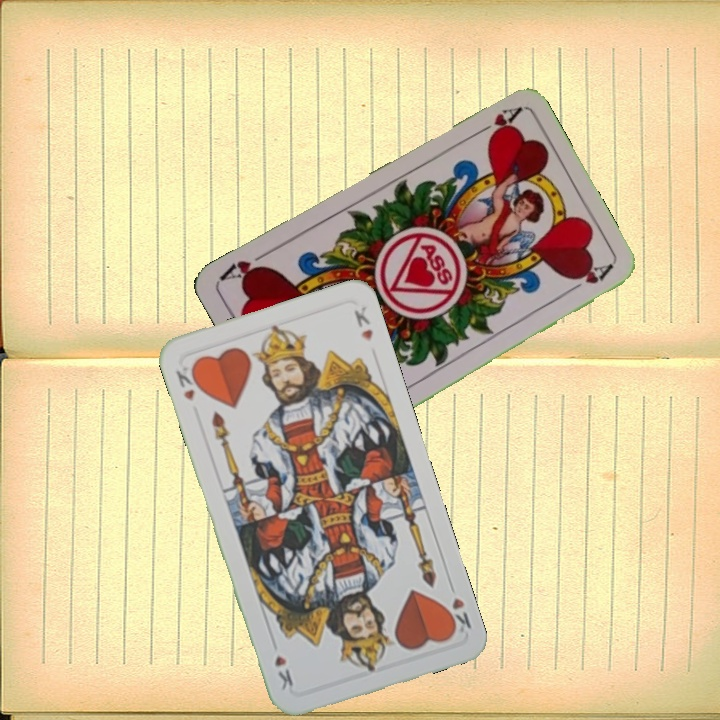HA: (468, 103, 523, 144)
HK: (440, 577, 474, 639), (172, 360, 204, 404)
